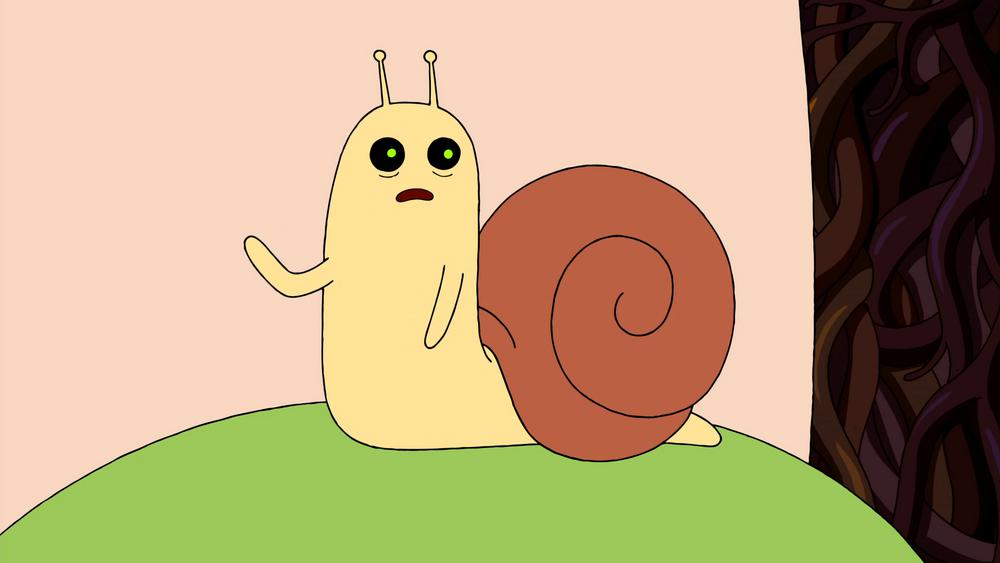snail: (242, 50, 739, 470)
